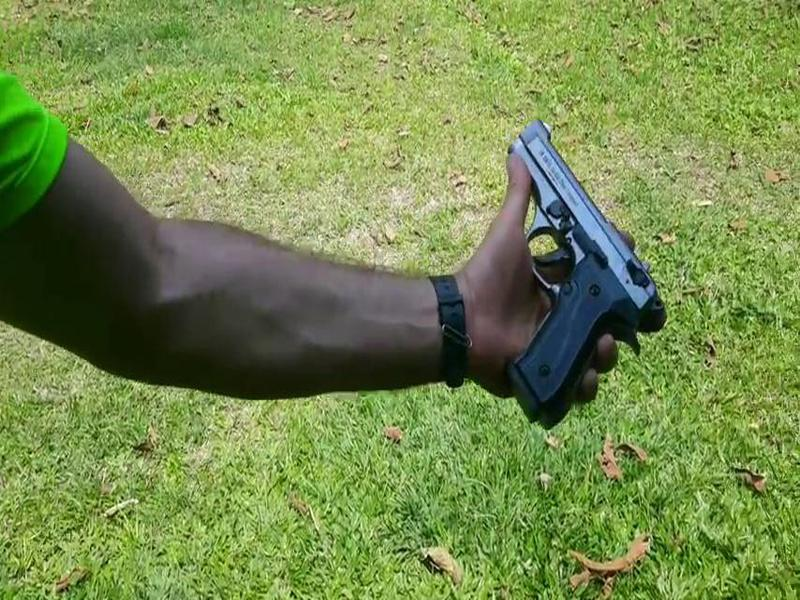Pistola: (493, 114, 671, 425)
